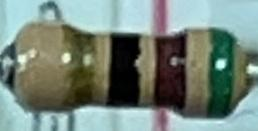Black: (104, 33, 145, 108)
Brown: (154, 28, 191, 118)
Green: (204, 27, 238, 122)
Side-Gold: (62, 21, 99, 112)
